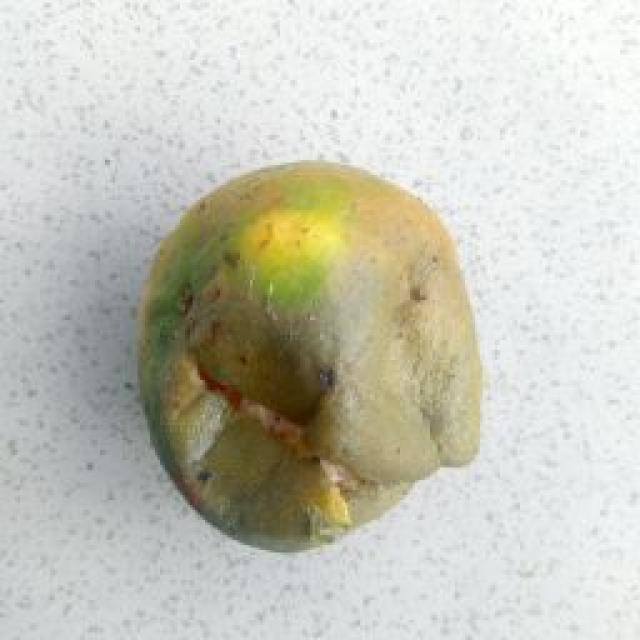Bad_Orange: (139, 162, 481, 549)
